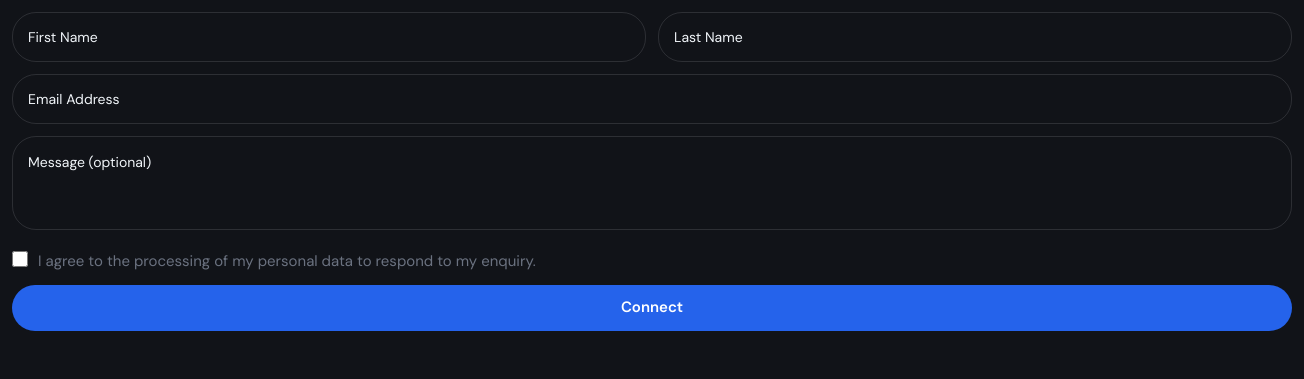
ConnectForm › shows why the server refused instead of a generic retry
Type "Ada" into the field labelled "First Name".
click(329, 37); type("Ada")  # box left=12, top=12, right=646, bottom=62
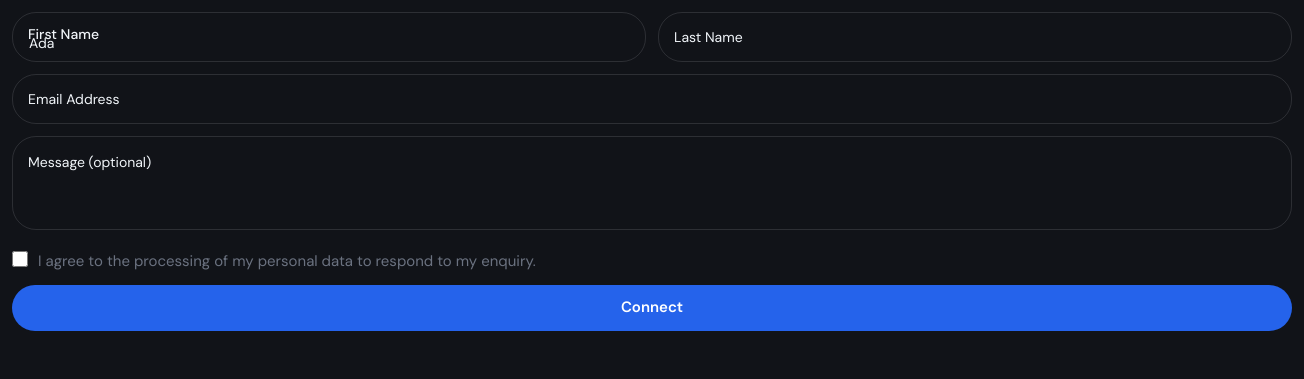
Type "Lovelace" into the field labelled "Last Name".
click(975, 37); type("Lovelace")  # box left=658, top=12, right=1292, bottom=62
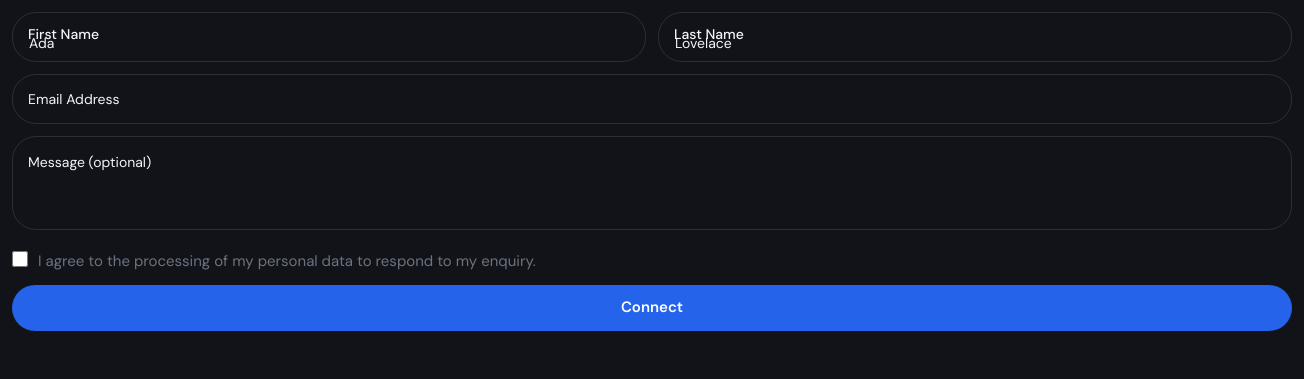
Type "ada@example.com" into the field labelled "Email Address".
click(652, 99); type("ada@example.com")  # box left=12, top=74, right=1292, bottom=124
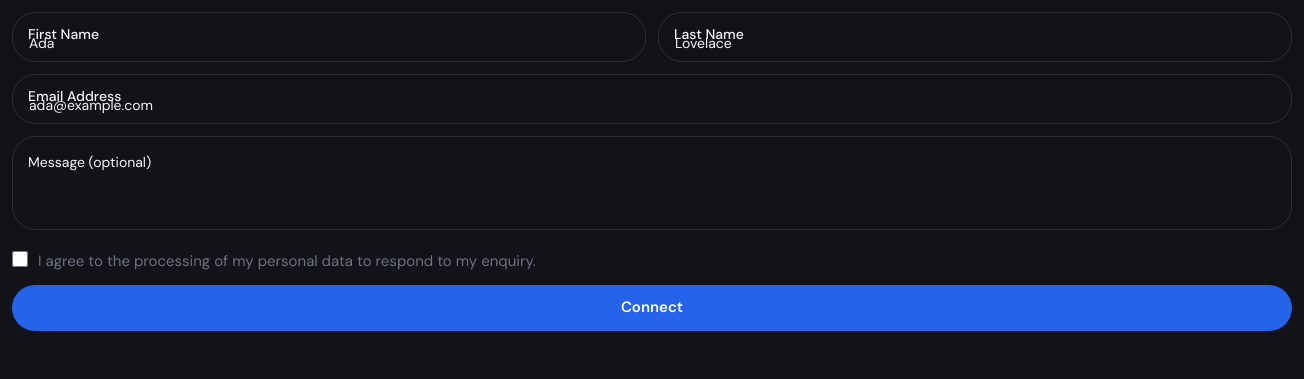
Click the checkbox.
click(20, 259)  # box left=12, top=251, right=28, bottom=267
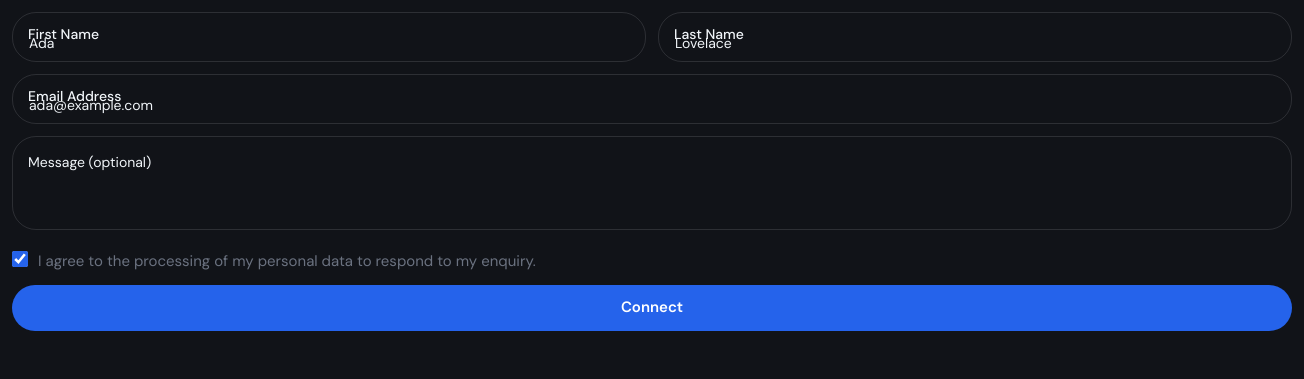
Click the button "Connect".
click(652, 308)  # box left=12, top=285, right=1292, bottom=331
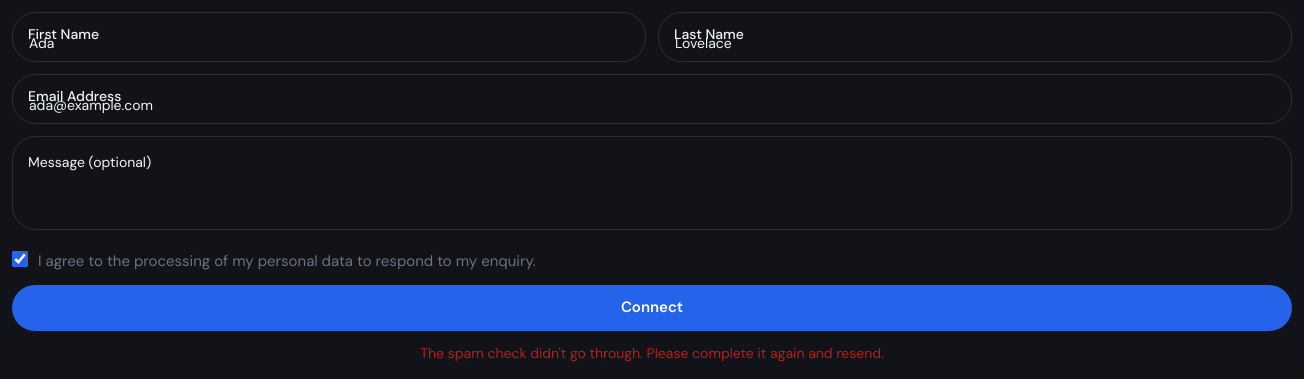
Result: the text "The spam check didn't go through. Please complete it again and resend." is shown at left=420, top=344, right=884, bottom=362
